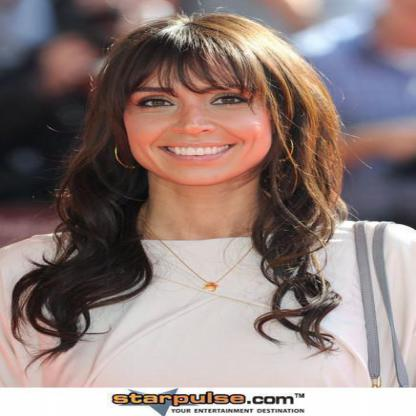long-hair: (43, 186, 360, 233)
